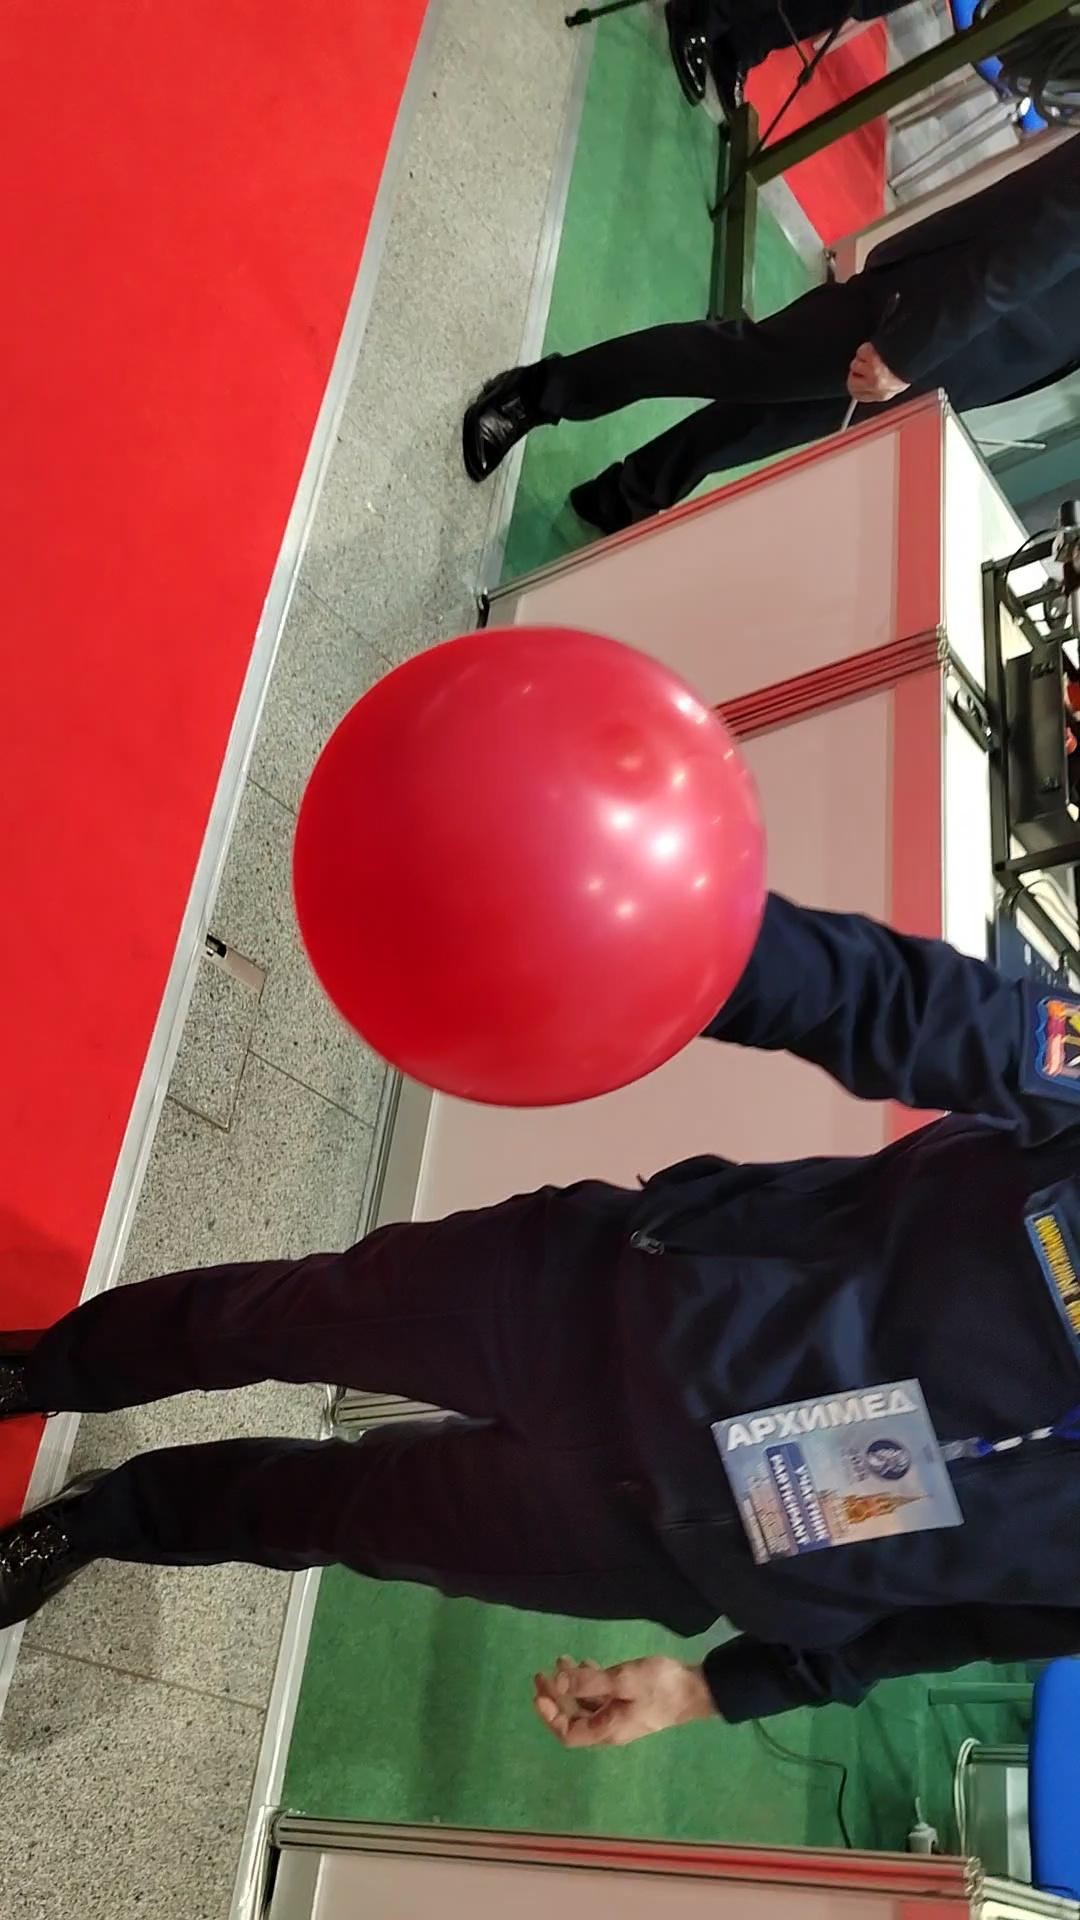red: (297, 615, 771, 1117)
